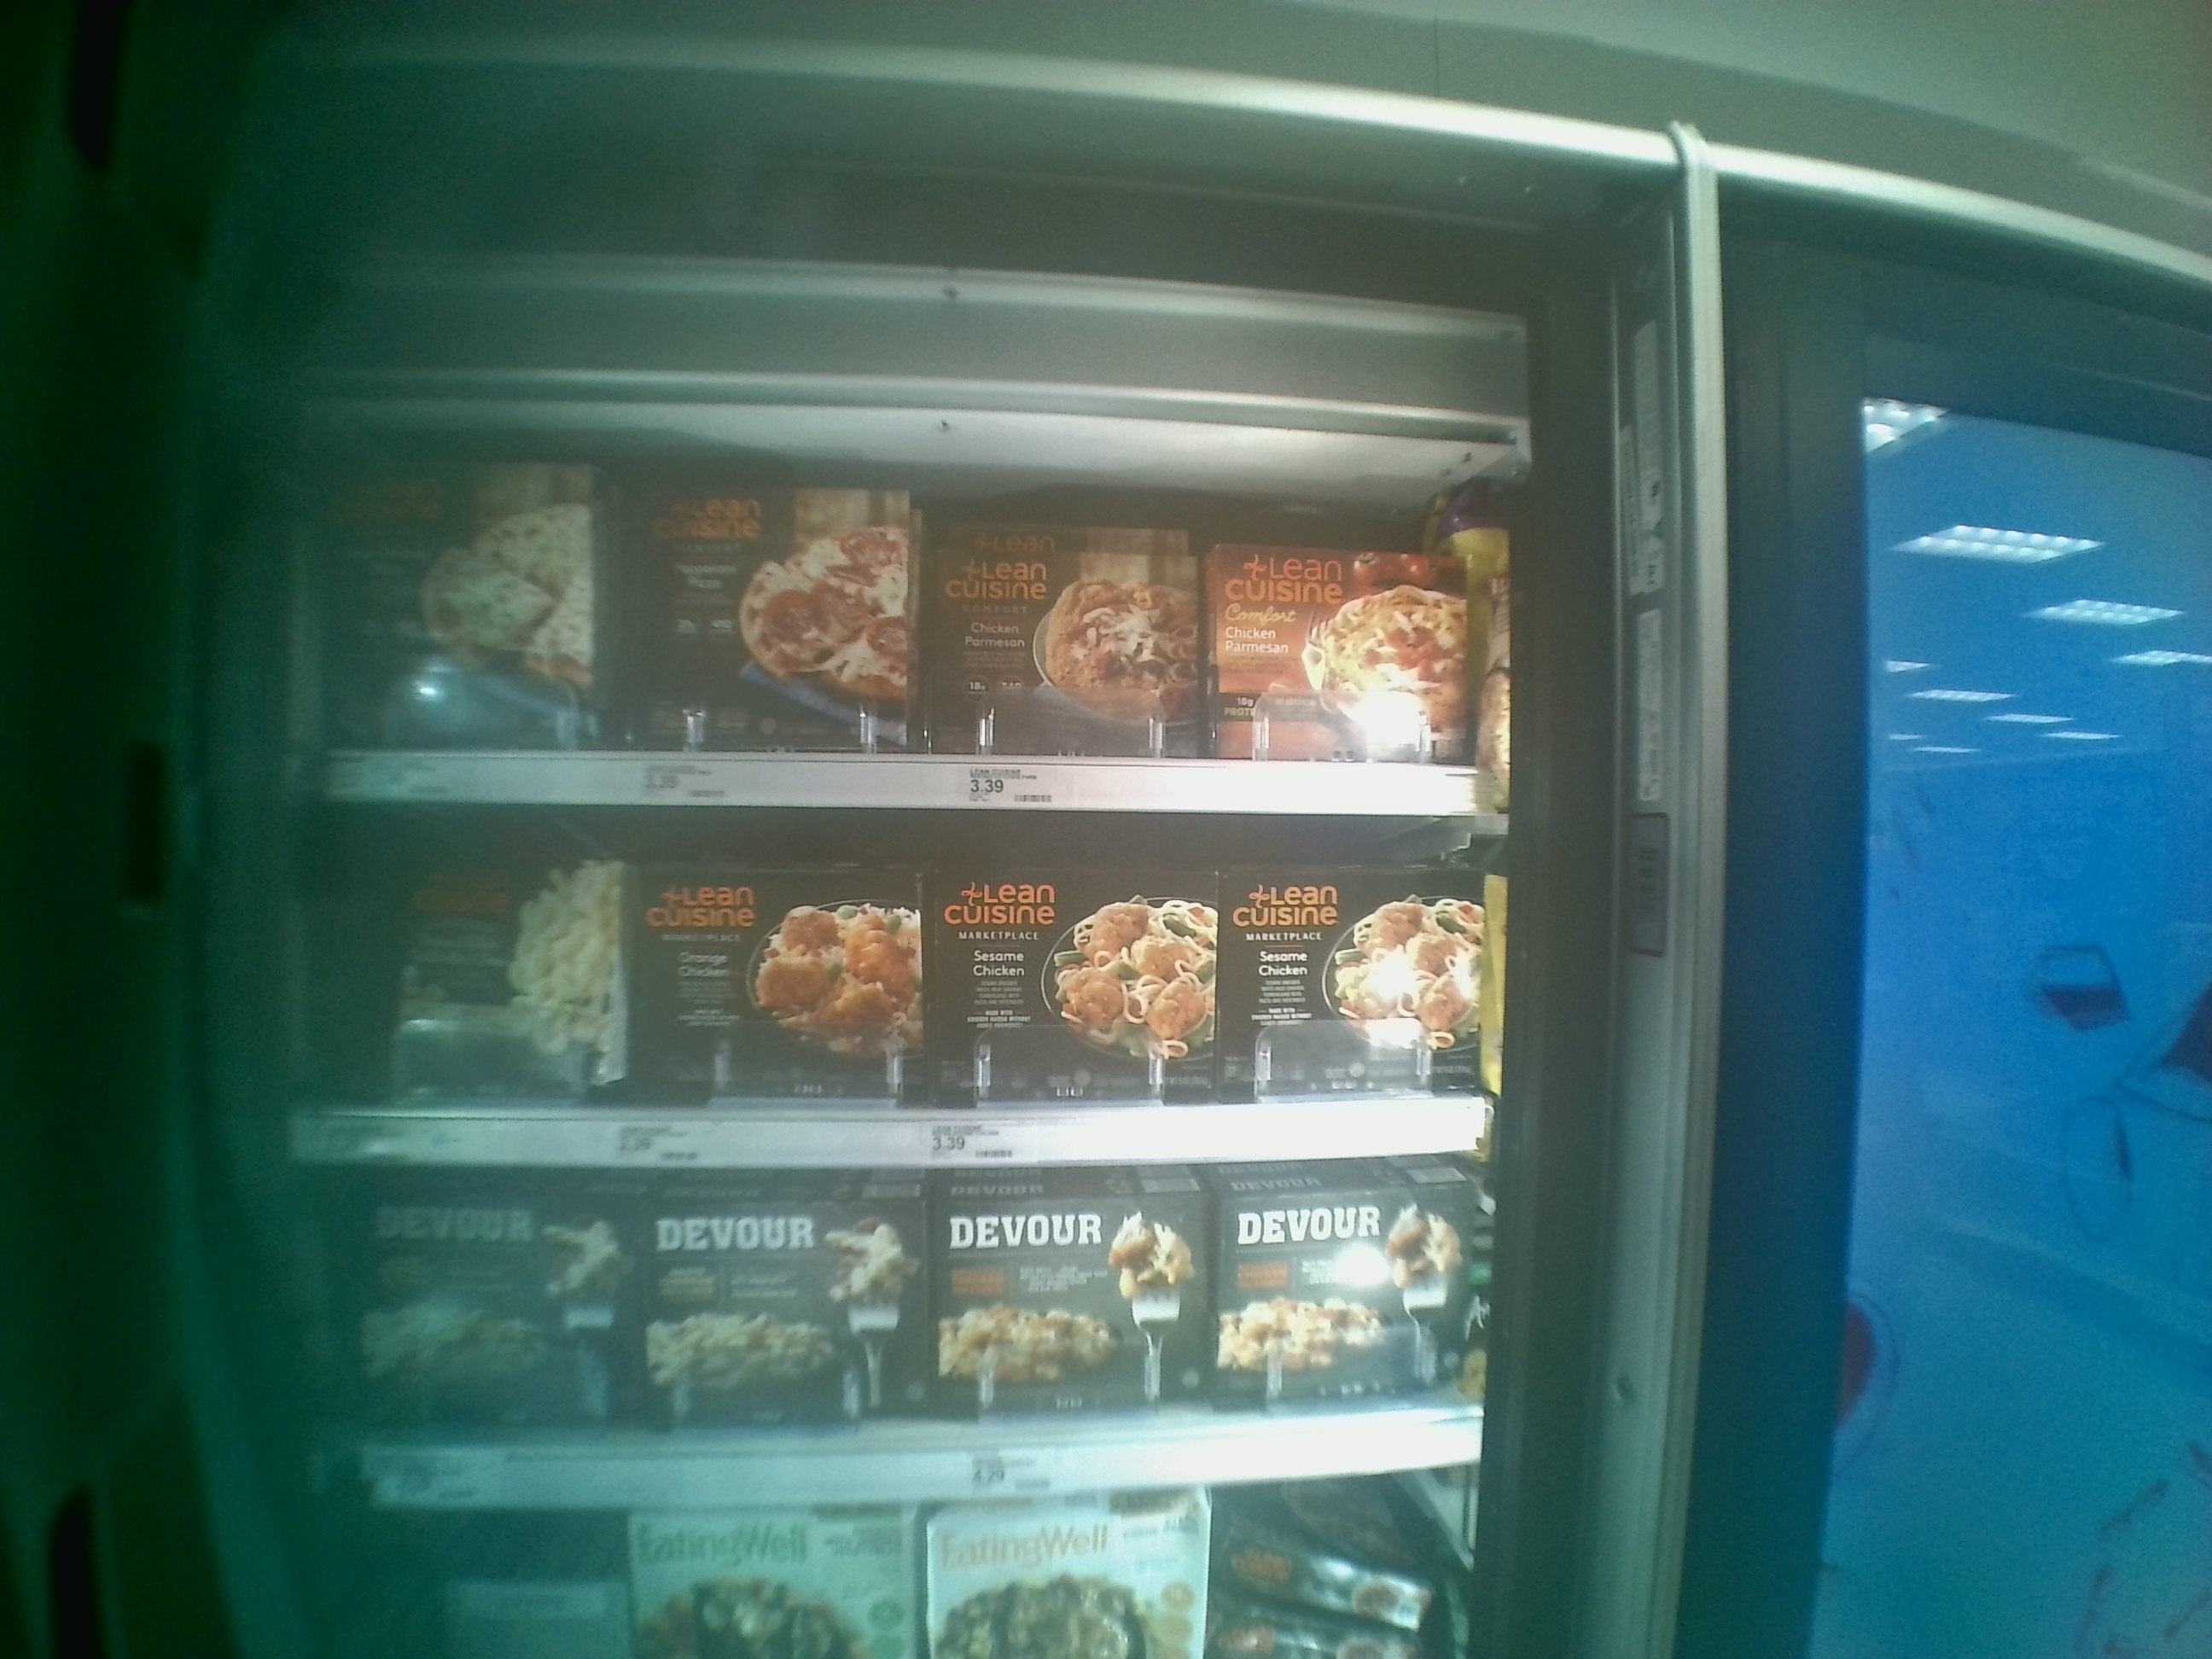shelf: (307, 397, 1484, 817), (308, 802, 1505, 1173), (286, 1162, 1501, 1502)
